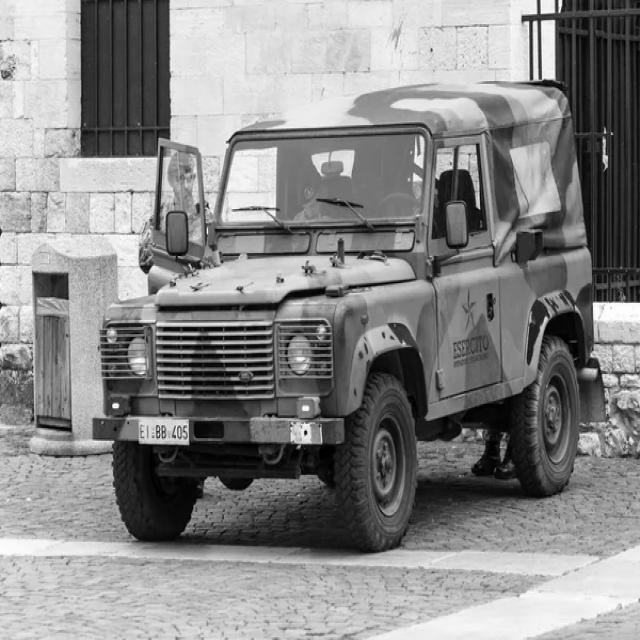Car: (92, 81, 606, 551)
